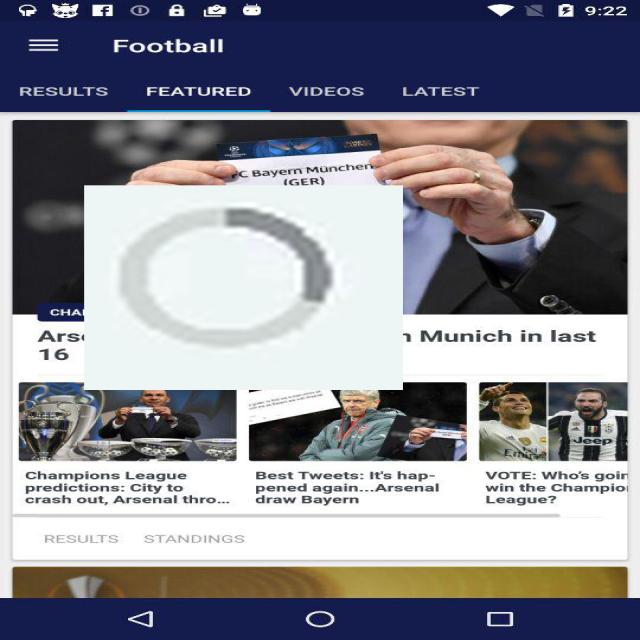misdirection: (84, 185, 403, 390)
